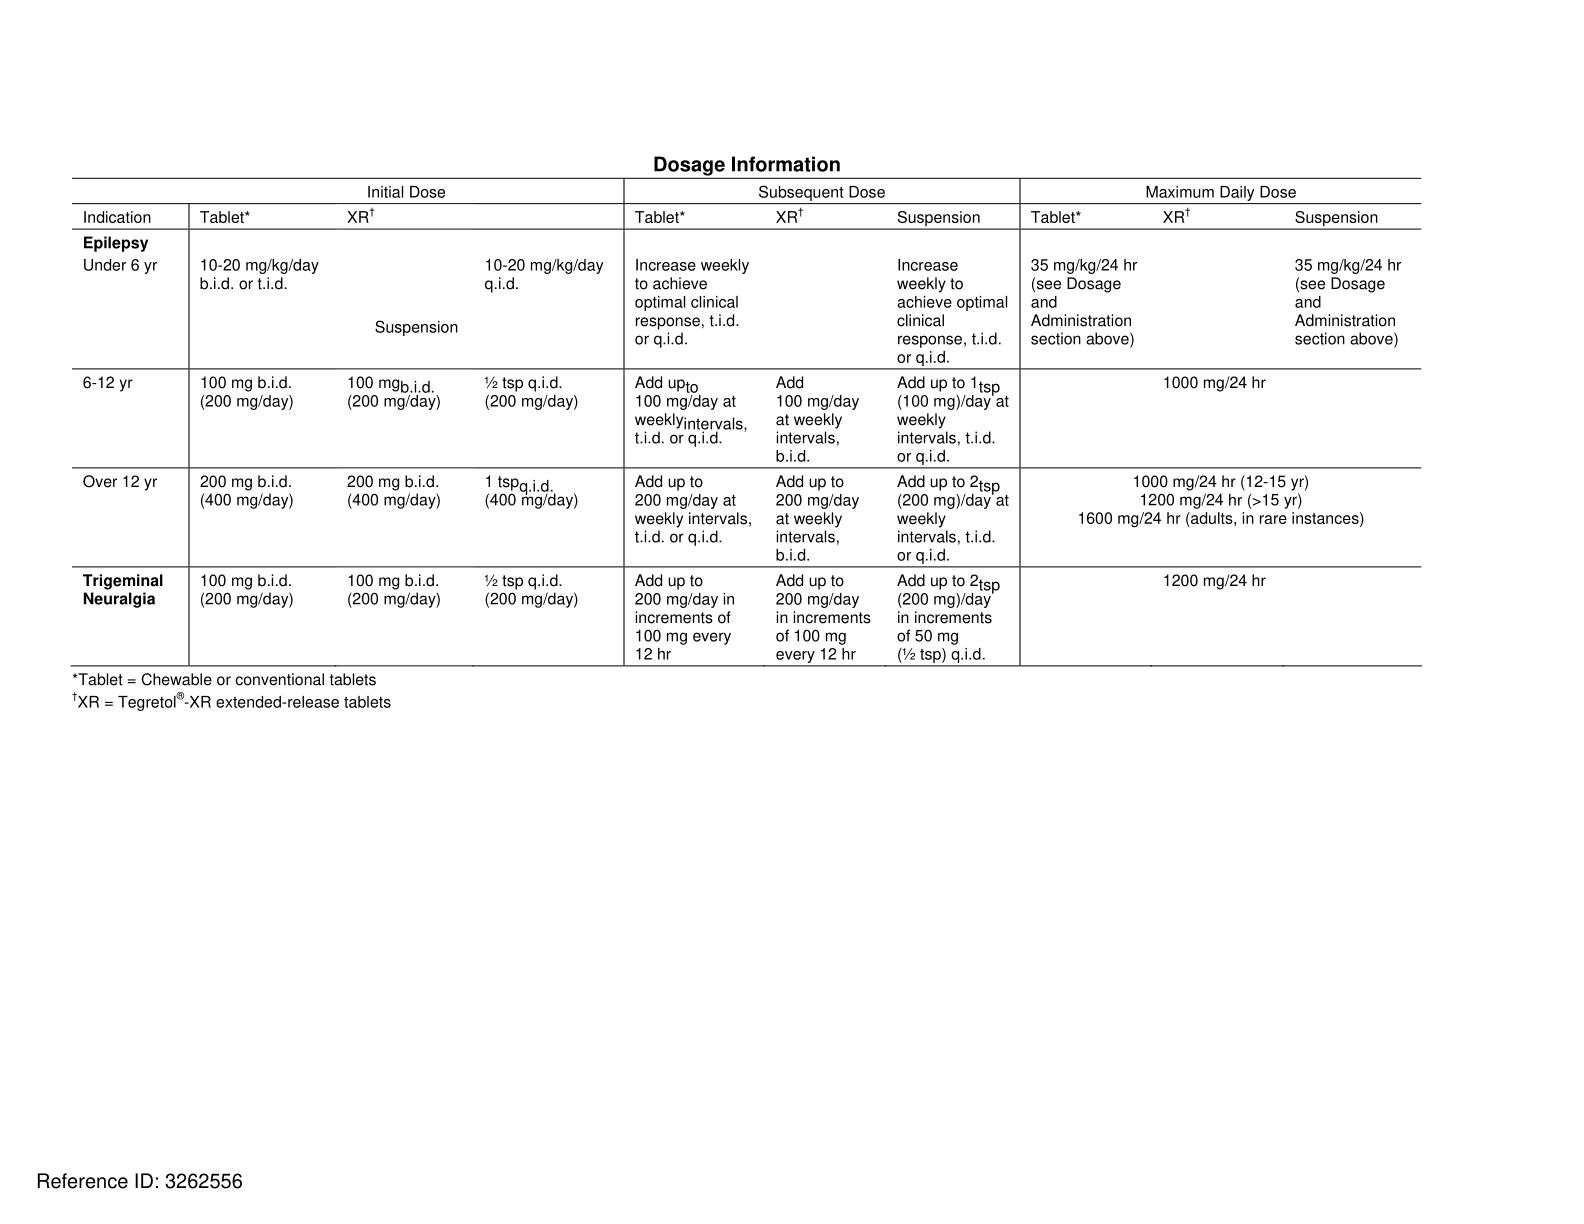partial_lined_merged_cells: (69, 175, 1425, 669)
